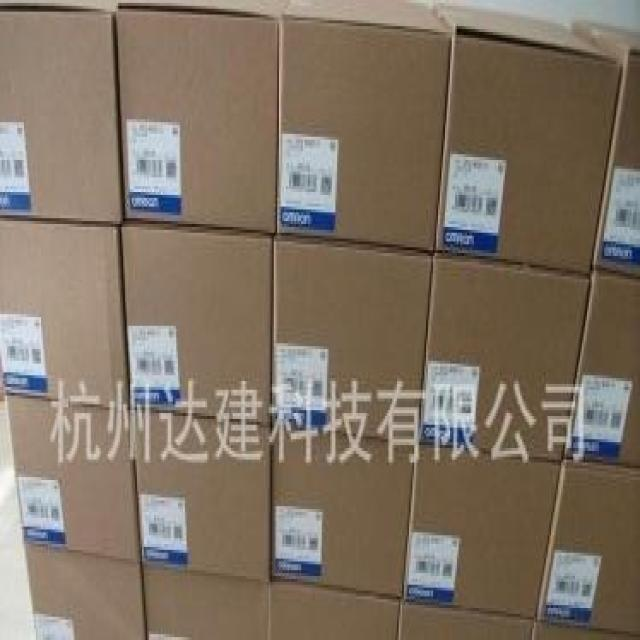box: (431, 1, 622, 275), (277, 1, 452, 251), (114, 1, 288, 234), (419, 253, 592, 460), (272, 236, 434, 440), (119, 223, 272, 421), (402, 443, 564, 619), (0, 3, 123, 222), (270, 422, 420, 599), (130, 406, 272, 583), (1, 213, 130, 407), (7, 395, 139, 560), (537, 456, 638, 631), (573, 20, 638, 279), (563, 270, 638, 462), (24, 544, 145, 637), (140, 561, 270, 637), (267, 580, 400, 637), (399, 605, 535, 637), (533, 616, 638, 636)
